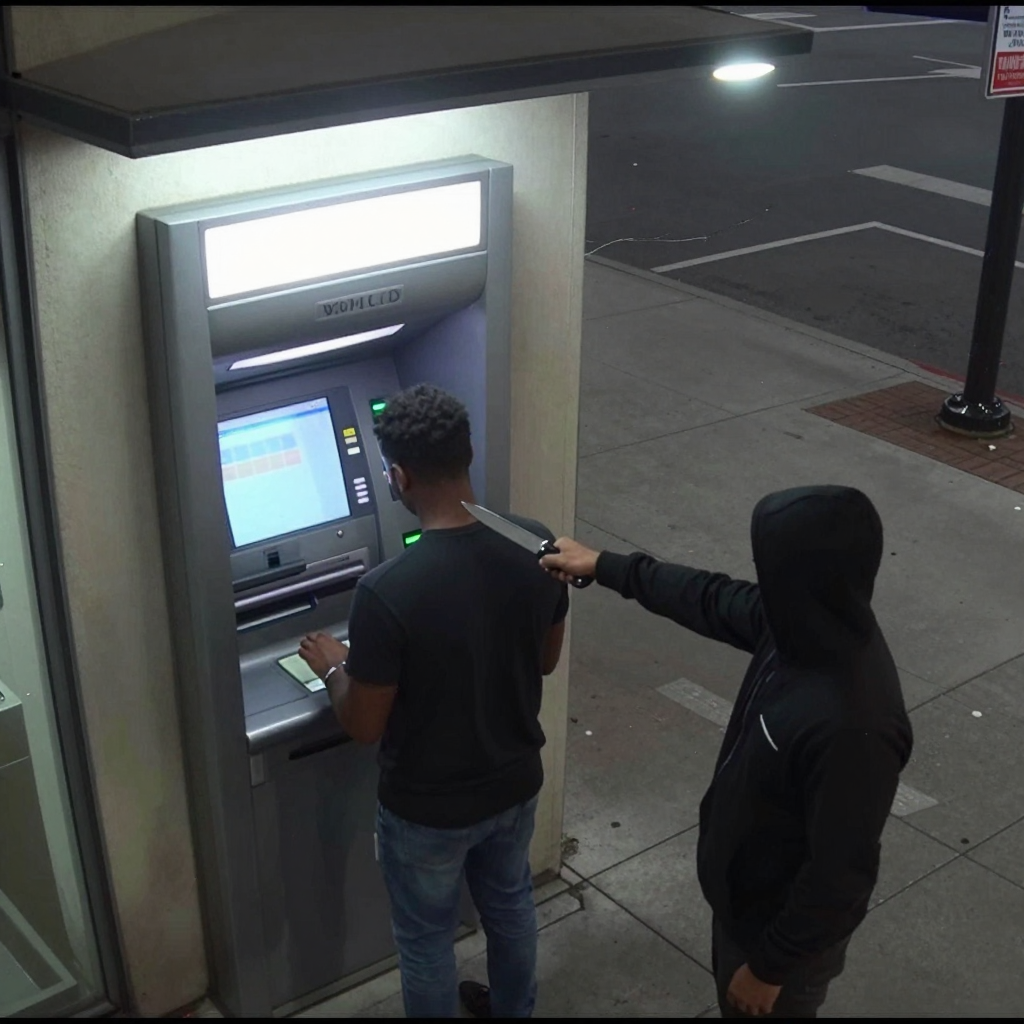Assault: (460, 501, 594, 589)
Robbery: (537, 484, 915, 1018), (297, 382, 571, 1019)
